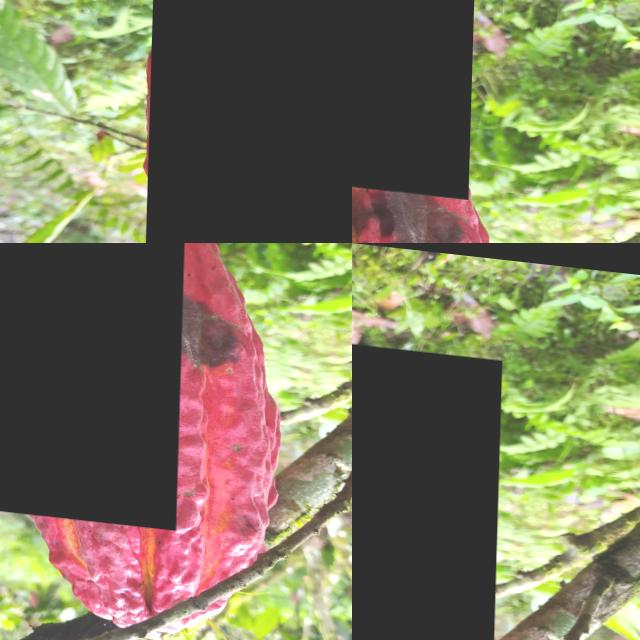Fitoftora: (0, 243, 187, 521), (352, 325, 502, 640), (352, 0, 474, 189)
Monilia: (145, 0, 352, 243)
